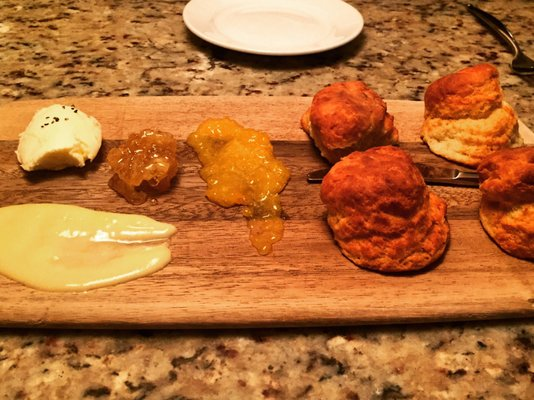burger: (465, 4, 534, 75)
